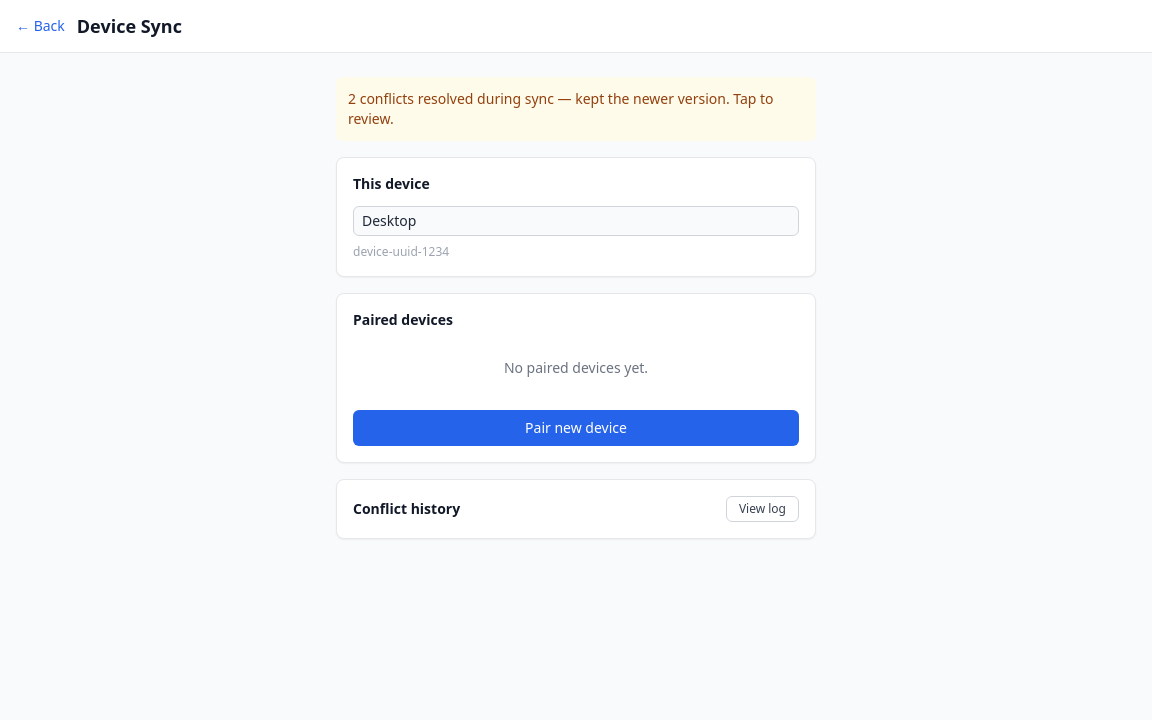
Scenario: SyncScreen › surfaces the unseen-conflicts banner and opens the log
Click the button "2 conflicts resolved during sync".
click(576, 109)  # box [336, 77, 816, 141]
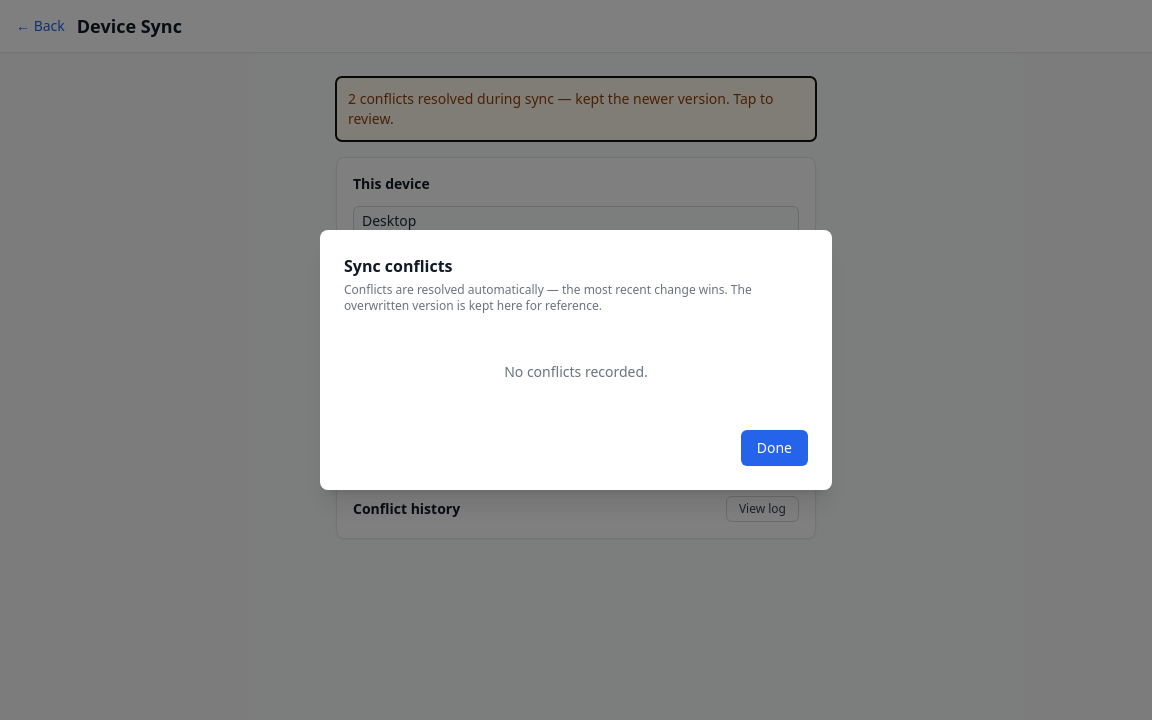
Check: the heading "Sync conflicts" is shown, box [344, 255, 452, 277]
